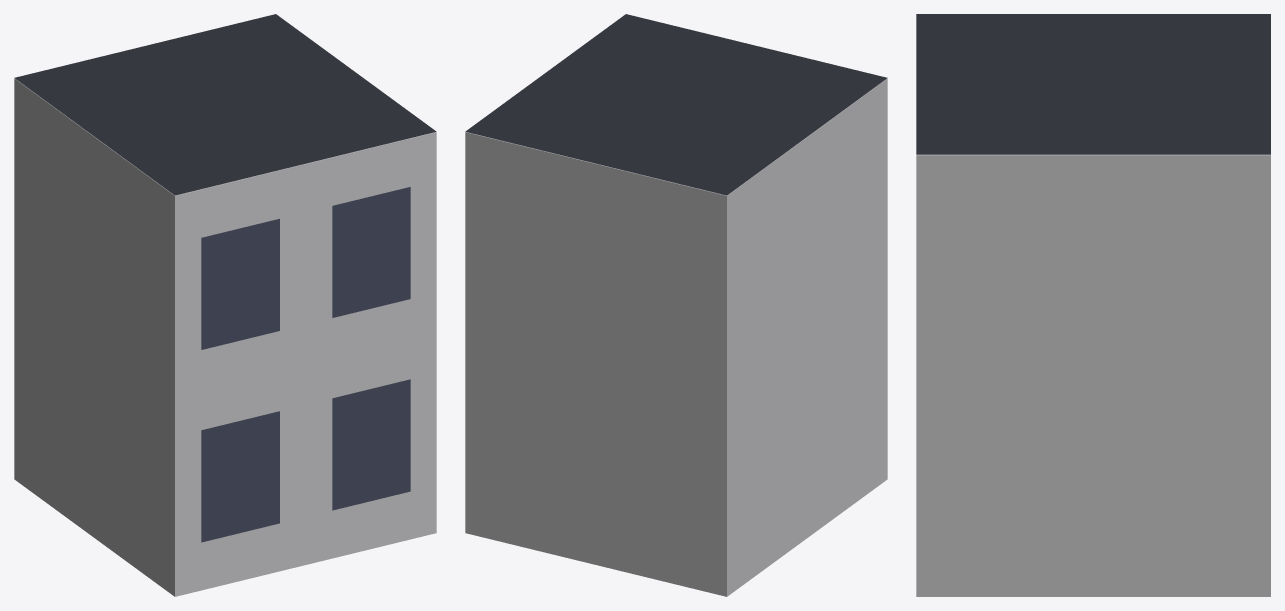
Rendered from building-a-low.glb.
3 renders of one model, left to right at view 1: azimuth 30°, elevation 25°; view 2: azimuth 150°, elevation 25°; view 3: azimuth 270°, elevation 25°, orthographic. The views are drawn at different scales.
Size of the model in its own units: 0.8836 by 1.29 by 0.9409.
